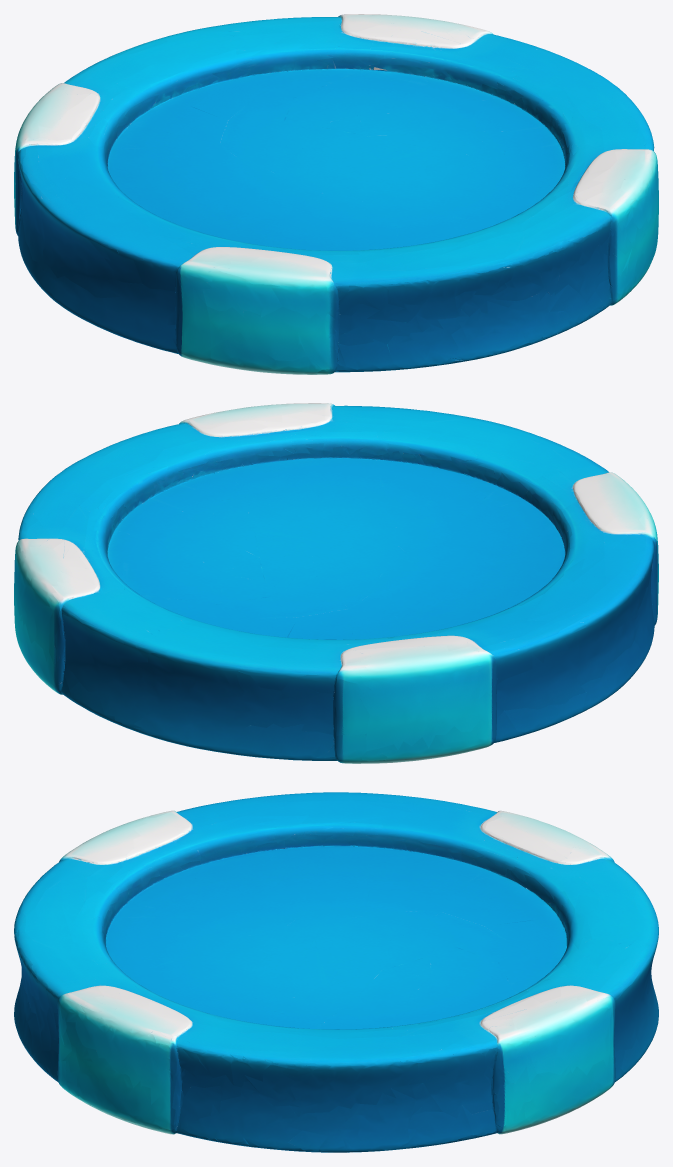
File: coin-blue.glb
3 renders of one model, top to bottom at view 1: azimuth 30°, elevation 25°; view 2: azimuth 150°, elevation 25°; view 3: azimuth 270°, elevation 25°, orthographic.
Bounding box in the file's own units: 1.9 × 0.3358 × 1.9.
1 material, 1 textured.
